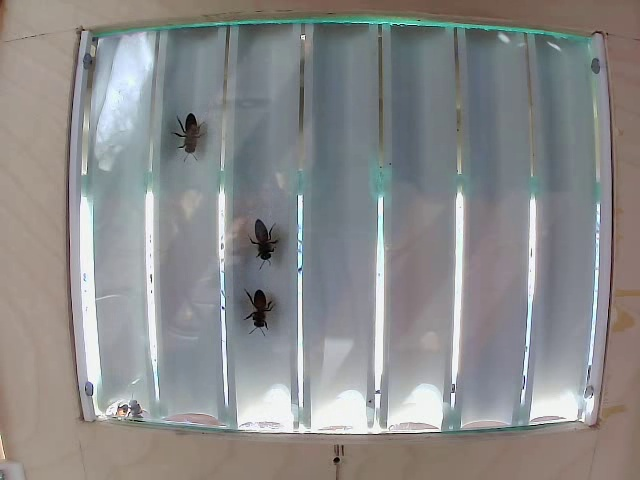bee: (166, 114, 210, 158), (241, 219, 277, 256), (246, 285, 266, 320)
